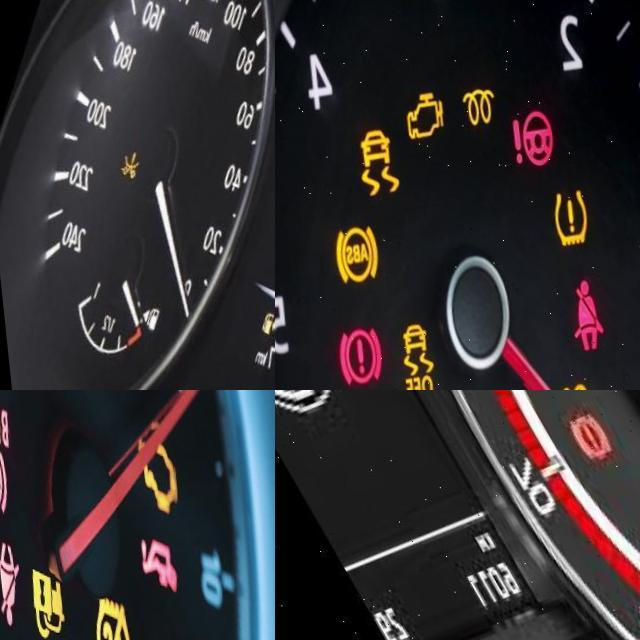Electronic Power Steering Warning: (500, 97, 549, 164)
Seat Belt: (557, 266, 599, 346), (0, 535, 17, 622)
